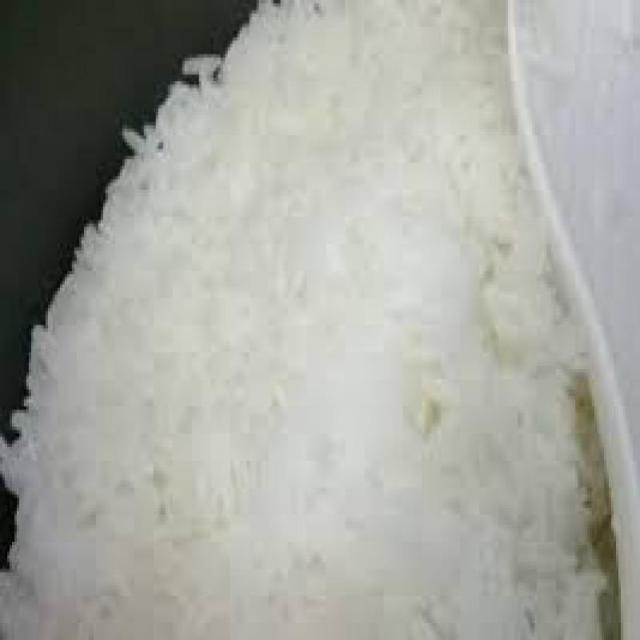nasi_putih: (14, 9, 614, 636)
